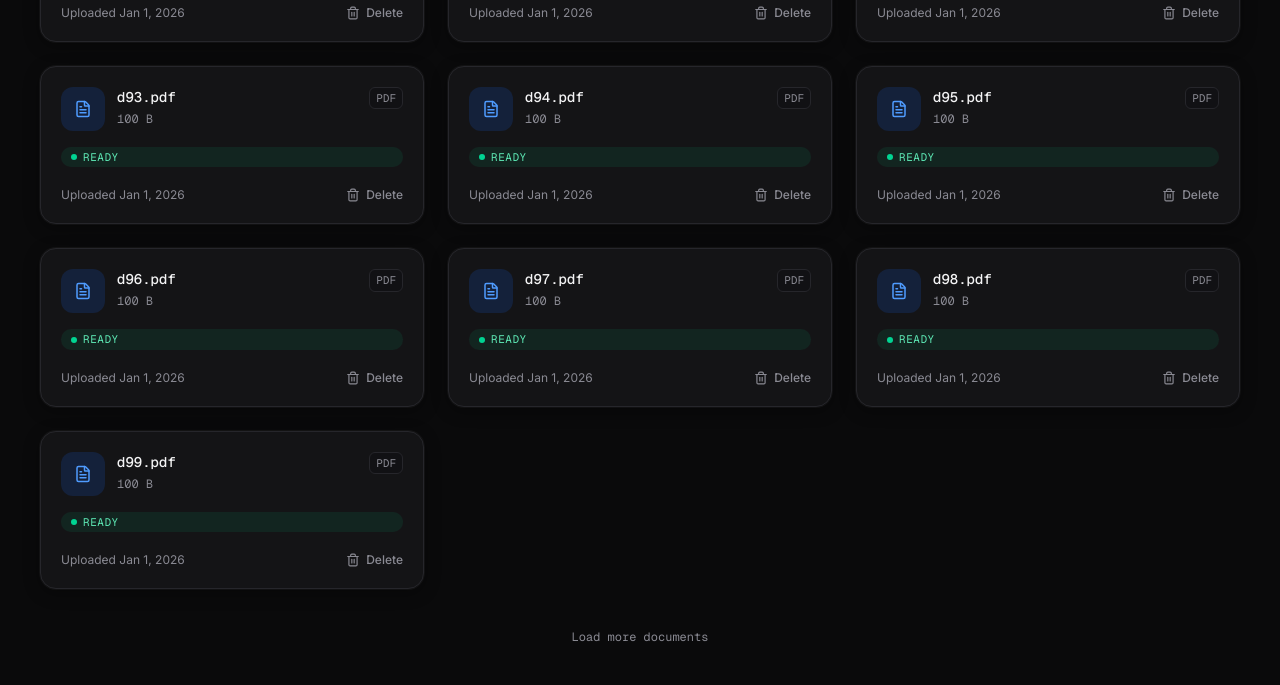
Test: DocumentsPage pagination › loads the next page on demand with the server cursor
(page scrolled)
Click the button "Load more documents": [640, 637] box x1=572 y1=629 x2=708 y2=645
(page scrolled)
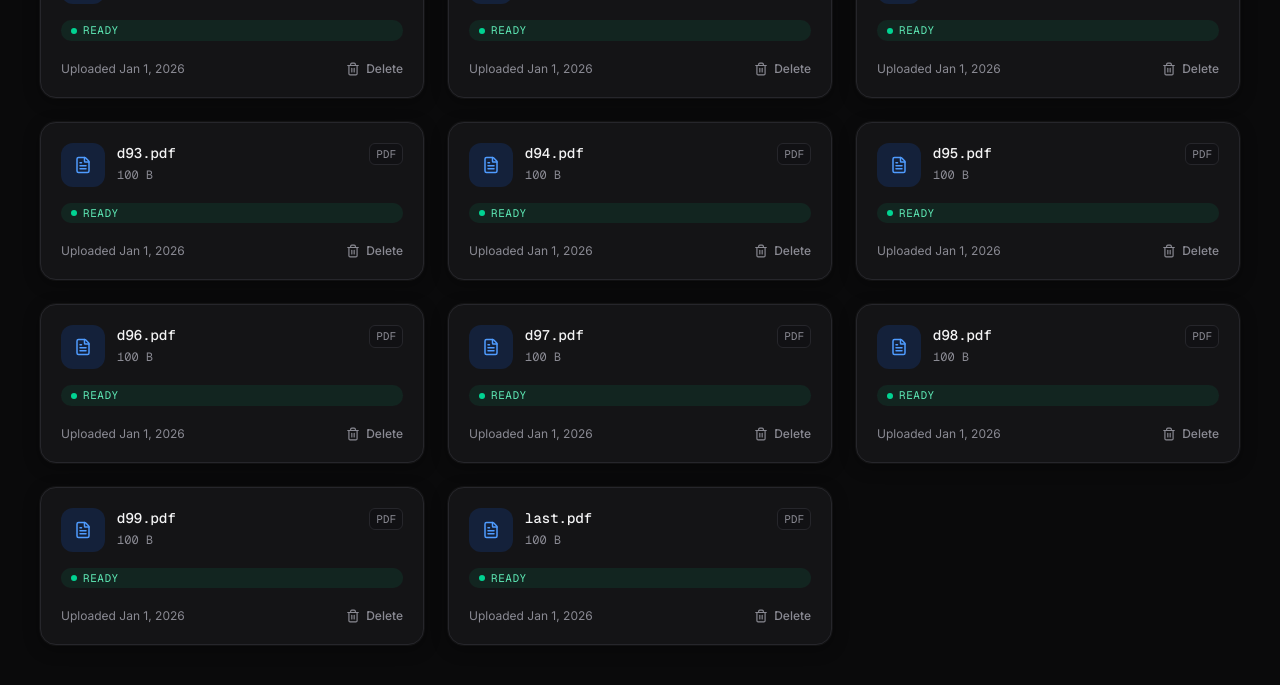
Result: the text "last.pdf" is shown at x1=525 y1=509 x2=592 y2=527
